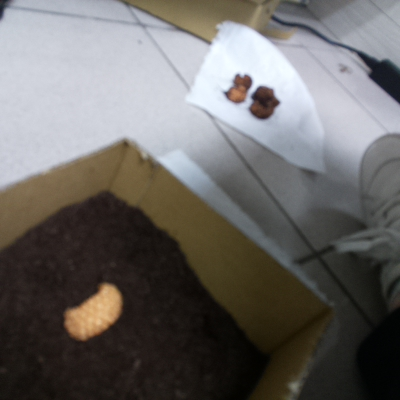eggs: (56, 274, 131, 343)
